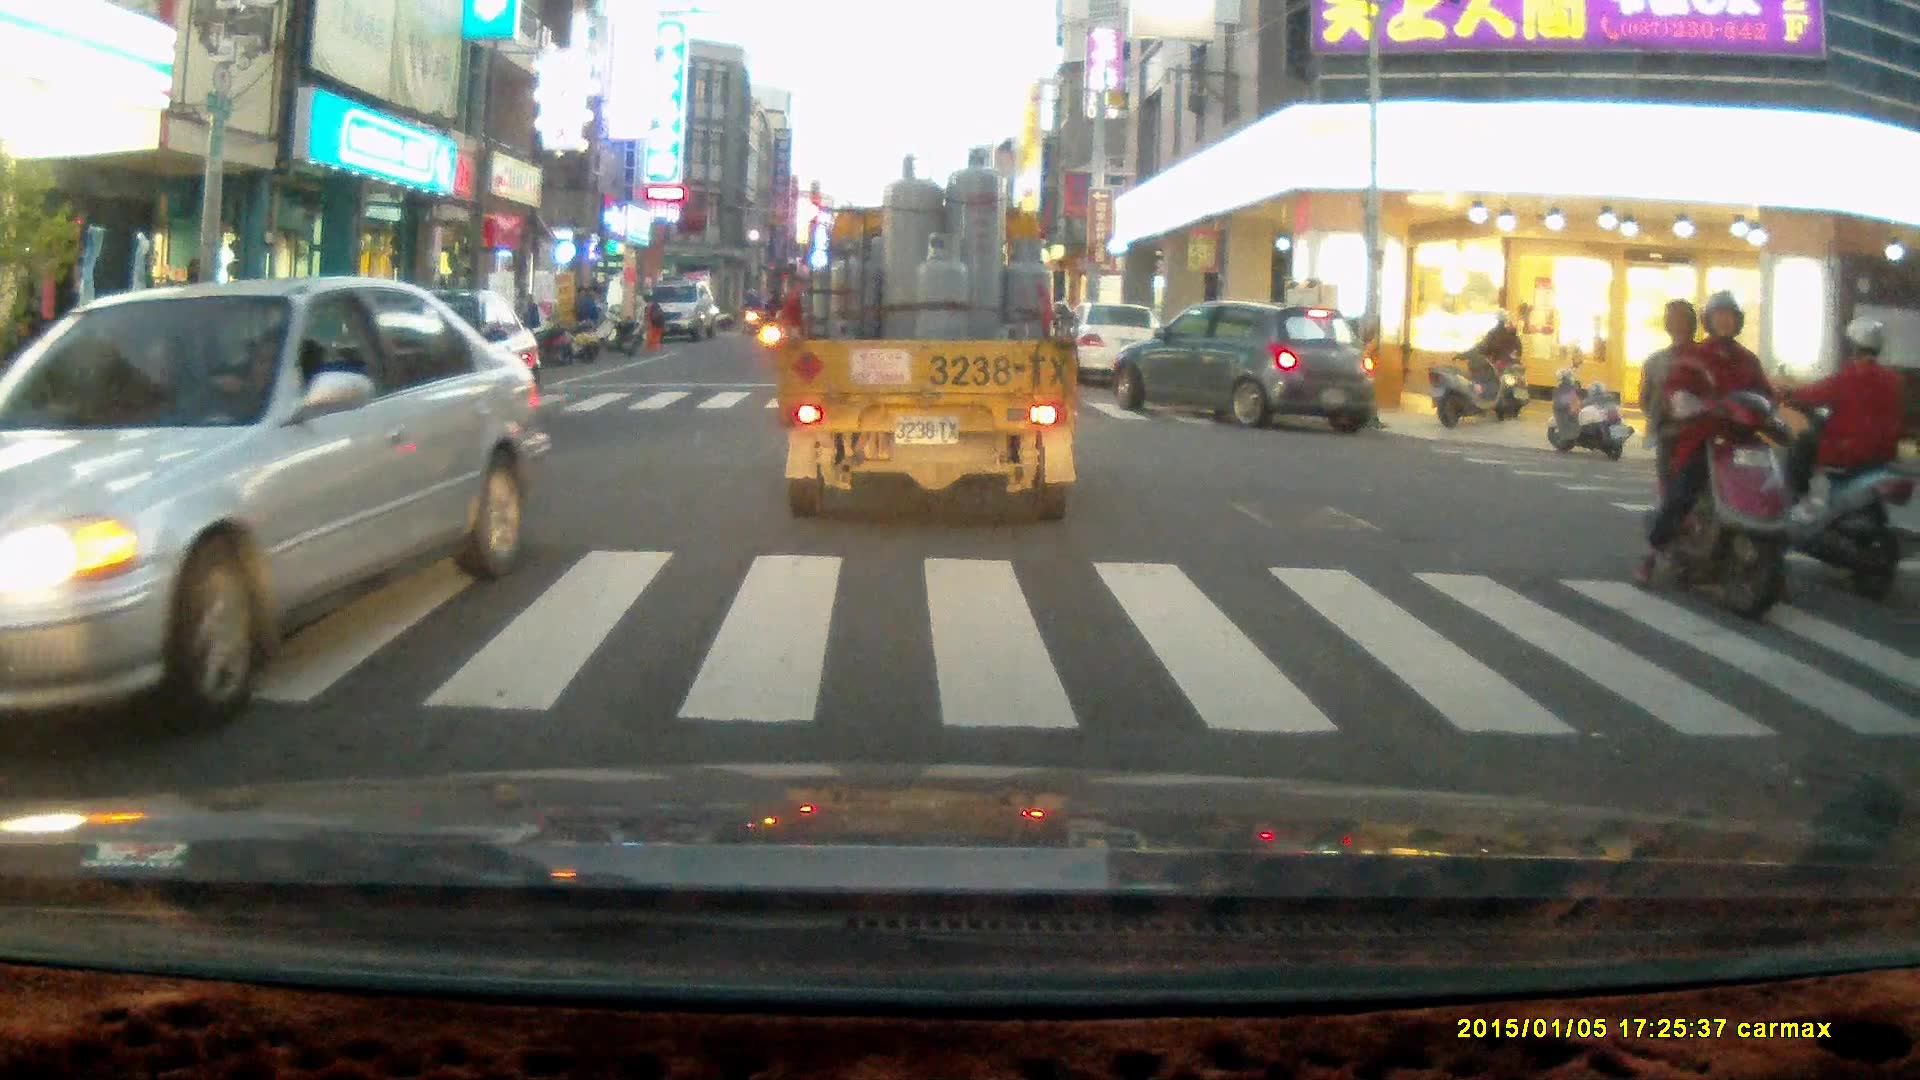pedestrian: (572, 283, 600, 348), (636, 293, 662, 353)
rider: (1624, 291, 1798, 627), (1751, 313, 1913, 605), (1469, 307, 1531, 424)
vehicle: (1, 277, 546, 765), (778, 148, 1081, 525), (1114, 302, 1376, 432), (1052, 304, 1176, 390), (634, 279, 713, 342)
